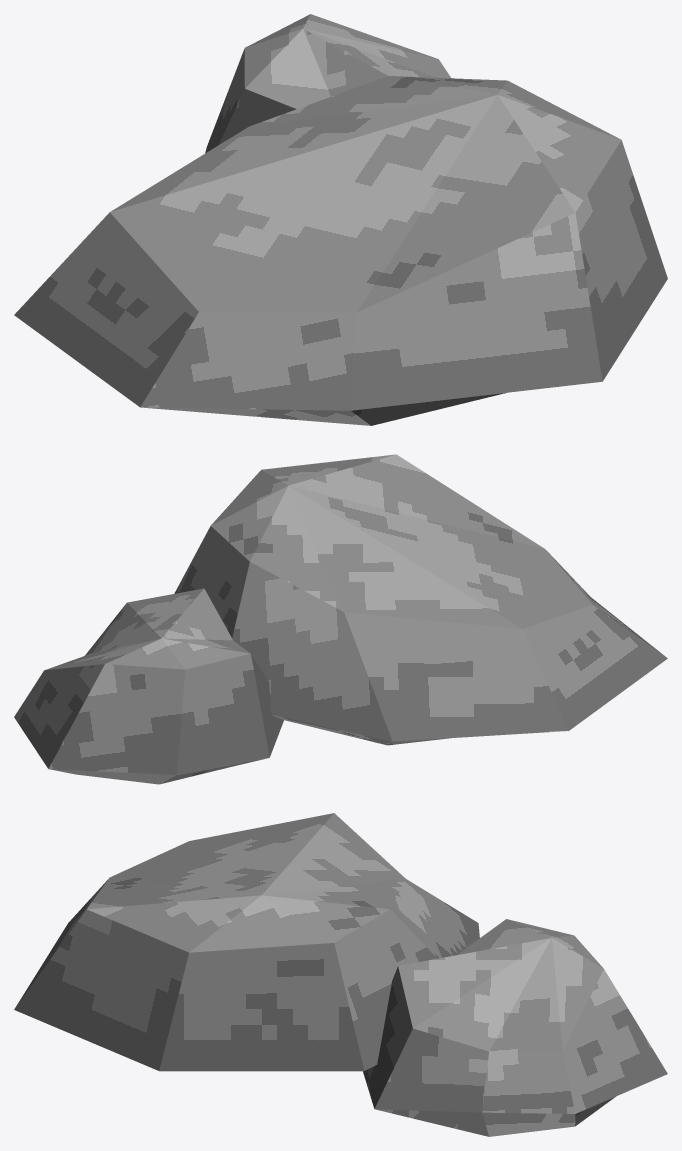
File: stone2.gltf
3 renders of one model, top to bottom at view 1: azimuth 30°, elevation 25°; view 2: azimuth 150°, elevation 25°; view 3: azimuth 270°, elevation 25°, orthographic. The views are drawn at different scales.
Visible parts, largest first — view 1: sphere (×2); view 2: sphere (×2); view 3: sphere (×2).
Boxes of the visible parts, x1=… form: sphere (×2): x1=14, y1=14, x2=667, y2=425; sphere (×2): x1=14, y1=454, x2=667, y2=784; sphere (×2): x1=14, y1=813, x2=667, y2=1136.
Size of the model in its own units: 1.1 by 0.4688 by 1.32.
1 material, 1 textured.
